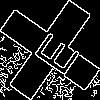E: (25, 25, 81, 78)
